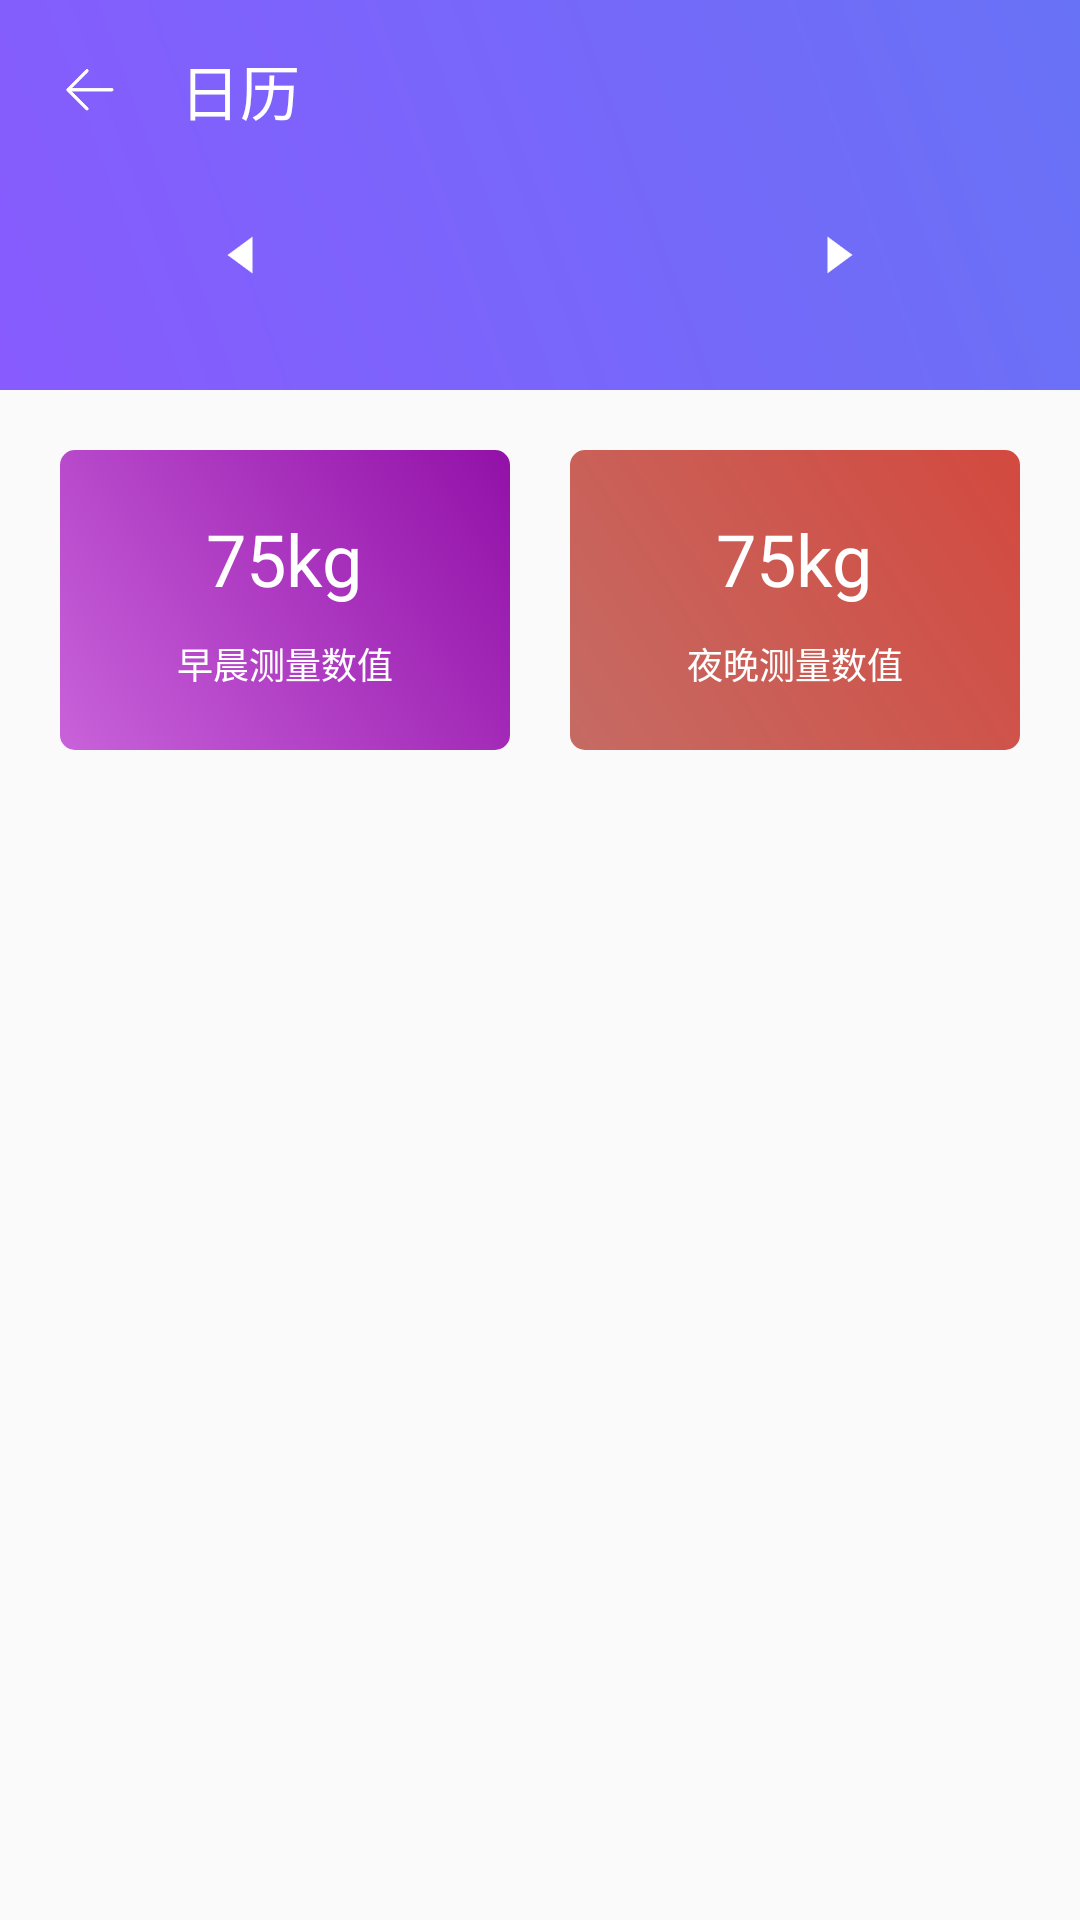

Locate icon controls on the screen. Image size 1080px×1920px, boxes as {"left": x1, "top": y1, "right": x2, "bottom": y2}.
angle left: {"left": 228, "top": 237, "right": 253, "bottom": 273}
angle right: {"left": 827, "top": 237, "right": 852, "bottom": 273}
back: {"left": 66, "top": 69, "right": 114, "bottom": 111}
